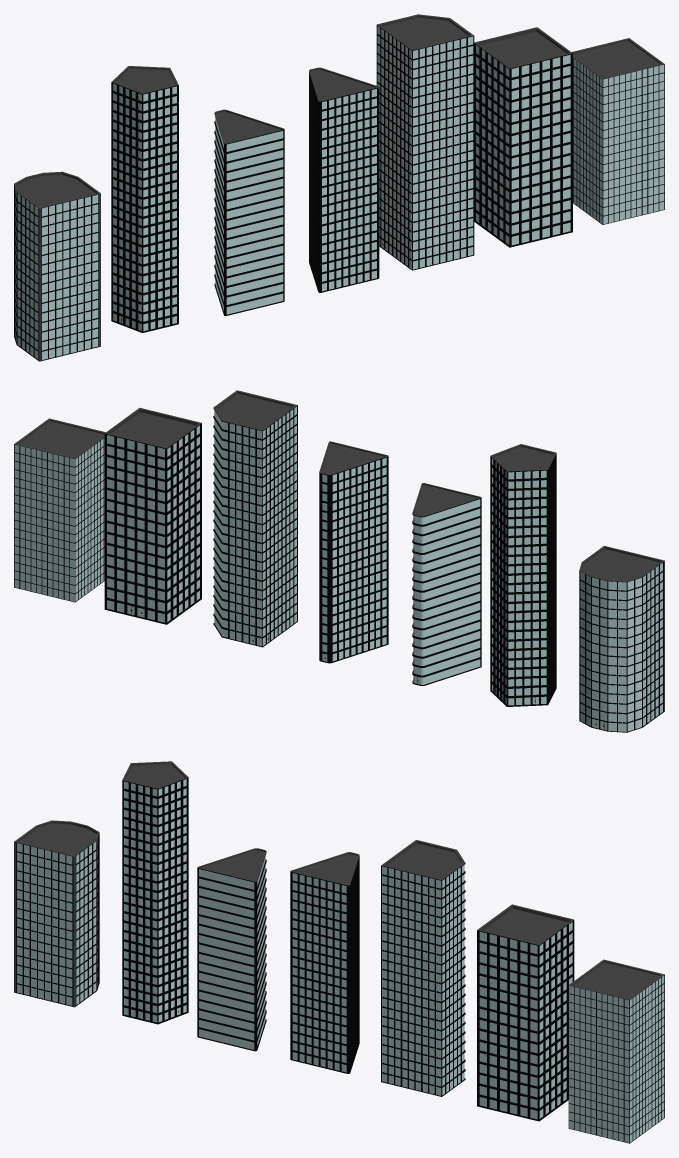
The model's file is  buildings v2.glb.
3 views of the same model, one above another, from view 1: azimuth 30°, elevation 25°; view 2: azimuth 150°, elevation 25°; view 3: azimuth 330°, elevation 25° (orthographic).
Parts seen in each view (by area): view 1: Cube.004_windowFrames_0.002, Cube.004_roof_0.002, Cube.004_windowFrames_0.005, Cube.004_roof_0.001, Cube.004, Cube.004_windows_0.001, Cube.004_windowFrames_0.003; view 2: Cube.004_windowFrames_0.002, Cube.004_roof_0.002, Cube.004_windowFrames_0.005, Cube.004_roof_0.001, Cube.004, Cube.004_windows_0.001, Cube.004_windowFrames_0.003; view 3: Cube.004_windowFrames_0.002, Cube.004_roof_0.002, Cube.004_windowFrames_0.005, Cube.004_roof_0.001, Cube.004, Cube.004_windows_0.001, Cube.004_windowFrames_0.003.
Boxes of the visible parts, bbox=[...] form: Cube.004_windowFrames_0.002: bbox=[376, 14, 474, 270]; Cube.004_roof_0.002: bbox=[474, 27, 572, 247]; Cube.004_windowFrames_0.005: bbox=[111, 66, 178, 332]; Cube.004_roof_0.001: bbox=[572, 38, 664, 224]; Cube.004: bbox=[14, 171, 100, 361]; Cube.004_windows_0.001: bbox=[309, 67, 379, 292]; Cube.004_windowFrames_0.003: bbox=[214, 109, 284, 315]; Cube.004_windowFrames_0.002: bbox=[213, 390, 297, 647]; Cube.004_roof_0.002: bbox=[104, 408, 201, 624]; Cube.004_windowFrames_0.005: bbox=[490, 444, 556, 706]; Cube.004_roof_0.001: bbox=[14, 418, 105, 602]; Cube.004: bbox=[579, 546, 664, 732]; Cube.004_windows_0.001: bbox=[319, 441, 388, 663]; Cube.004_windowFrames_0.003: bbox=[412, 483, 481, 685]; Cube.004_windowFrames_0.002: bbox=[381, 840, 465, 1096]; Cube.004_roof_0.002: bbox=[477, 904, 574, 1121]; Cube.004_windowFrames_0.005: bbox=[122, 761, 188, 1024]; Cube.004_roof_0.001: bbox=[568, 959, 664, 1143]; Cube.004: bbox=[14, 820, 99, 1007]; Cube.004_windows_0.001: bbox=[290, 852, 359, 1073]; Cube.004_windowFrames_0.003: bbox=[197, 848, 266, 1051].
Size of the model in its own units: 40.46 by 14.82 by 4.02.
